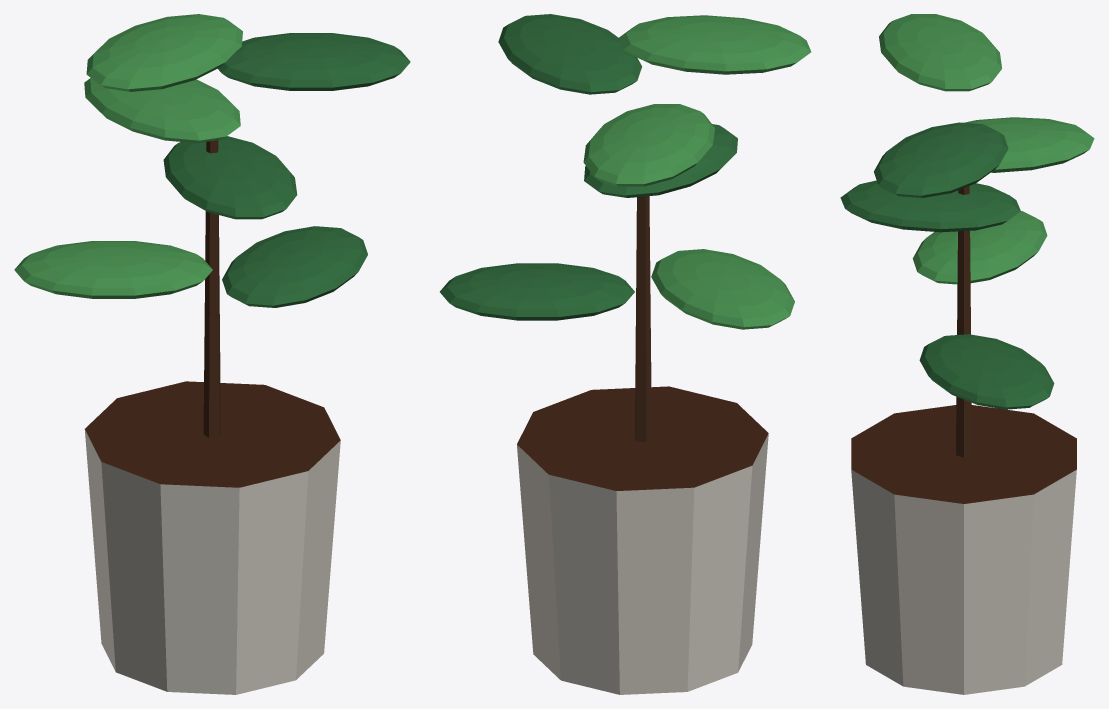
The model's file is plant_tall.obj.
The picture shows the model from 3 angles, left to right: view 1: azimuth 30°, elevation 25°; view 2: azimuth 150°, elevation 25°; view 3: azimuth 270°, elevation 25°; orthographic projection. The views are drawn at different scales.
Visible parts, largest first — view 1: plant_tall; view 2: plant_tall; view 3: plant_tall.
Boxes of the visible parts, x1,y1,x2,y2 form: plant_tall: (14,14,410,694); plant_tall: (440,14,811,694); plant_tall: (840,14,1094,694).
Size of the model in its own units: 0.637 by 1.12 by 0.4434.
